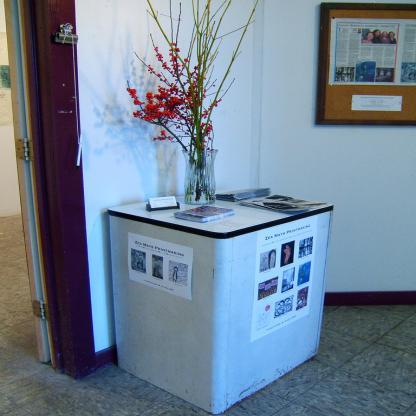vase: (183, 148, 218, 202)
